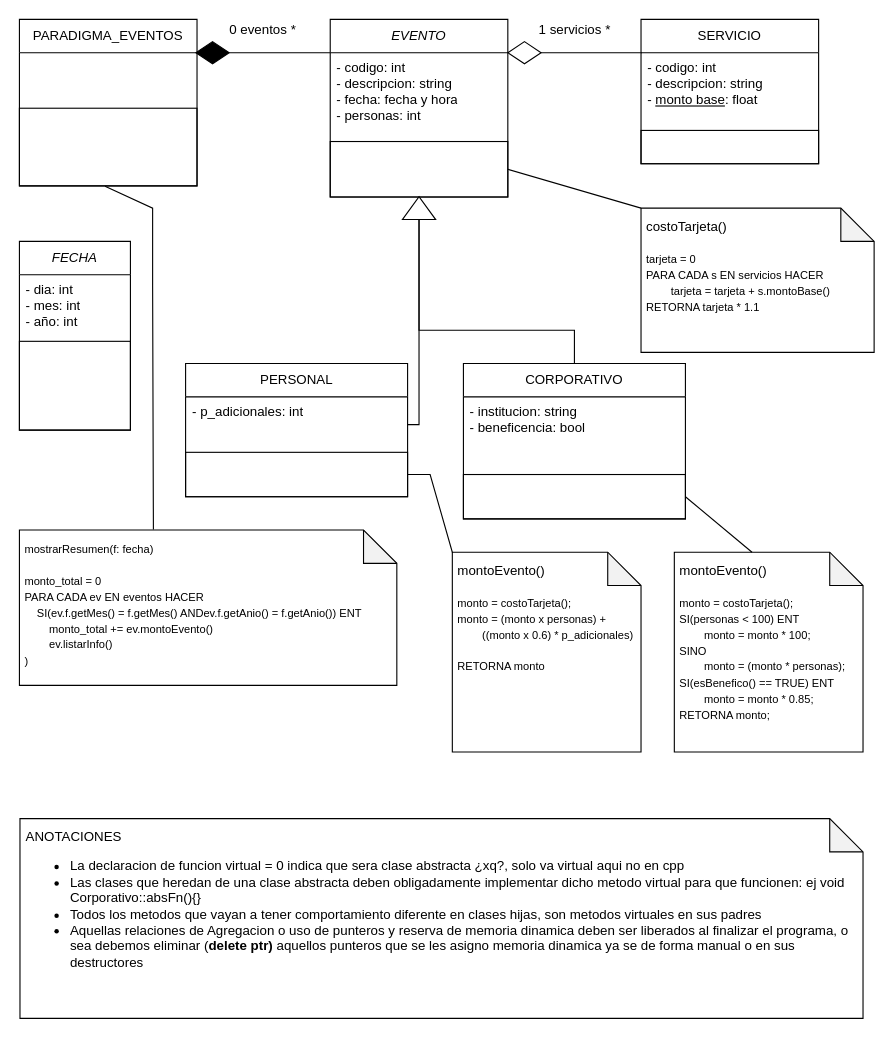
This 894x1038 diagram has some shape labels left out. The centre of each missing label's shape, as x and y in pixels:
"+ crearEventoCorporativo() + crearEventoPersonal() + mostrarResumen()" goes at point (107, 146).
"+ getDia() + getMes() + getAnio() + getFecha()" goes at point (74, 385).
"+ listarInfo() + montoEvento() + costoTarjeta()" goes at point (418, 168).
"+ montoBase()" goes at point (729, 146).
"+ montoEvento()" goes at point (296, 474).
"+ montoEvento() + esBenefico()" goes at point (573, 496).
